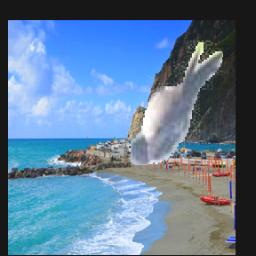Swallow: (131, 40, 223, 165)
